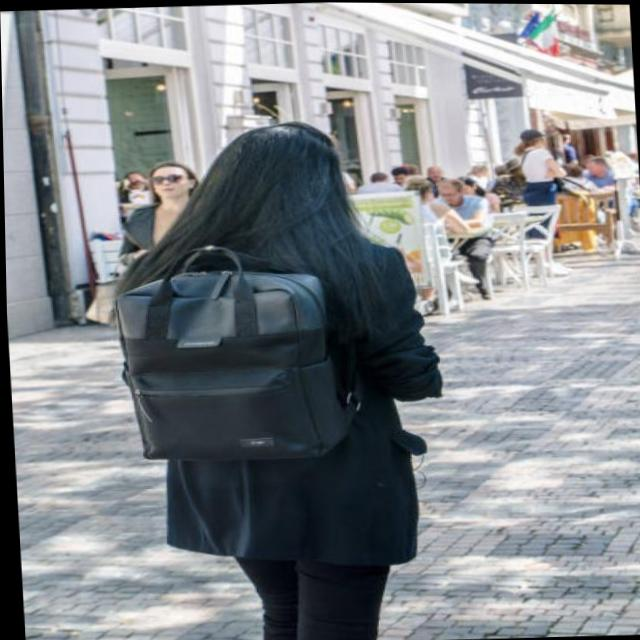no helmet: (201, 119, 353, 254)
